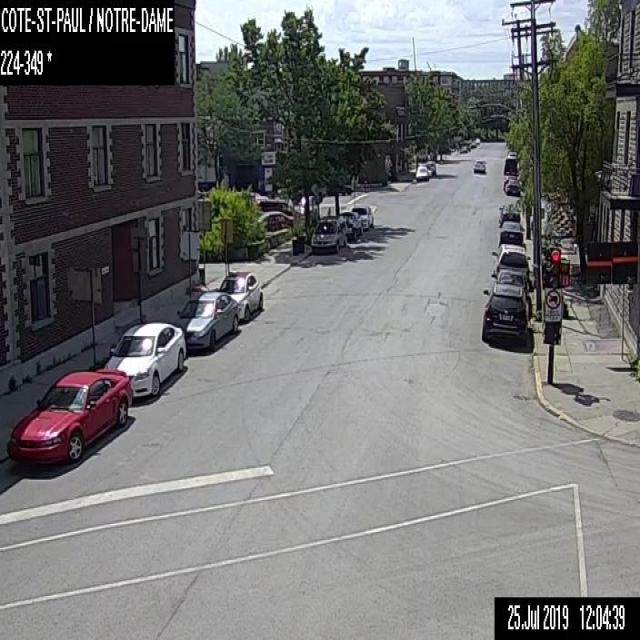vehicle: (5, 368, 131, 467), (104, 321, 185, 397), (174, 291, 238, 349), (480, 281, 532, 344), (215, 271, 262, 320), (310, 214, 347, 253), (491, 243, 530, 273), (490, 268, 528, 290), (256, 211, 295, 230), (255, 199, 298, 215), (498, 220, 523, 246), (339, 210, 362, 238), (351, 204, 374, 228), (497, 204, 520, 223), (505, 178, 520, 195), (502, 175, 518, 190), (502, 157, 516, 174), (472, 158, 486, 174), (415, 165, 428, 180), (426, 160, 436, 174), (507, 150, 516, 158), (458, 145, 466, 153), (469, 142, 476, 148), (475, 137, 479, 144)
